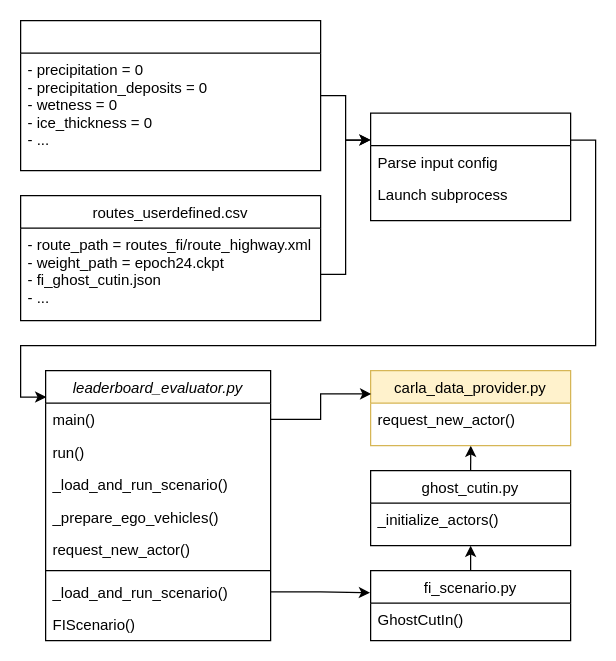
Image size: 616x661. Some labels were removed from this diagram. Each missing label, with the box of its shape:
campaign_driver.py: (369, 112, 571, 221)
weather_config.csv: (19, 19, 321, 171)
